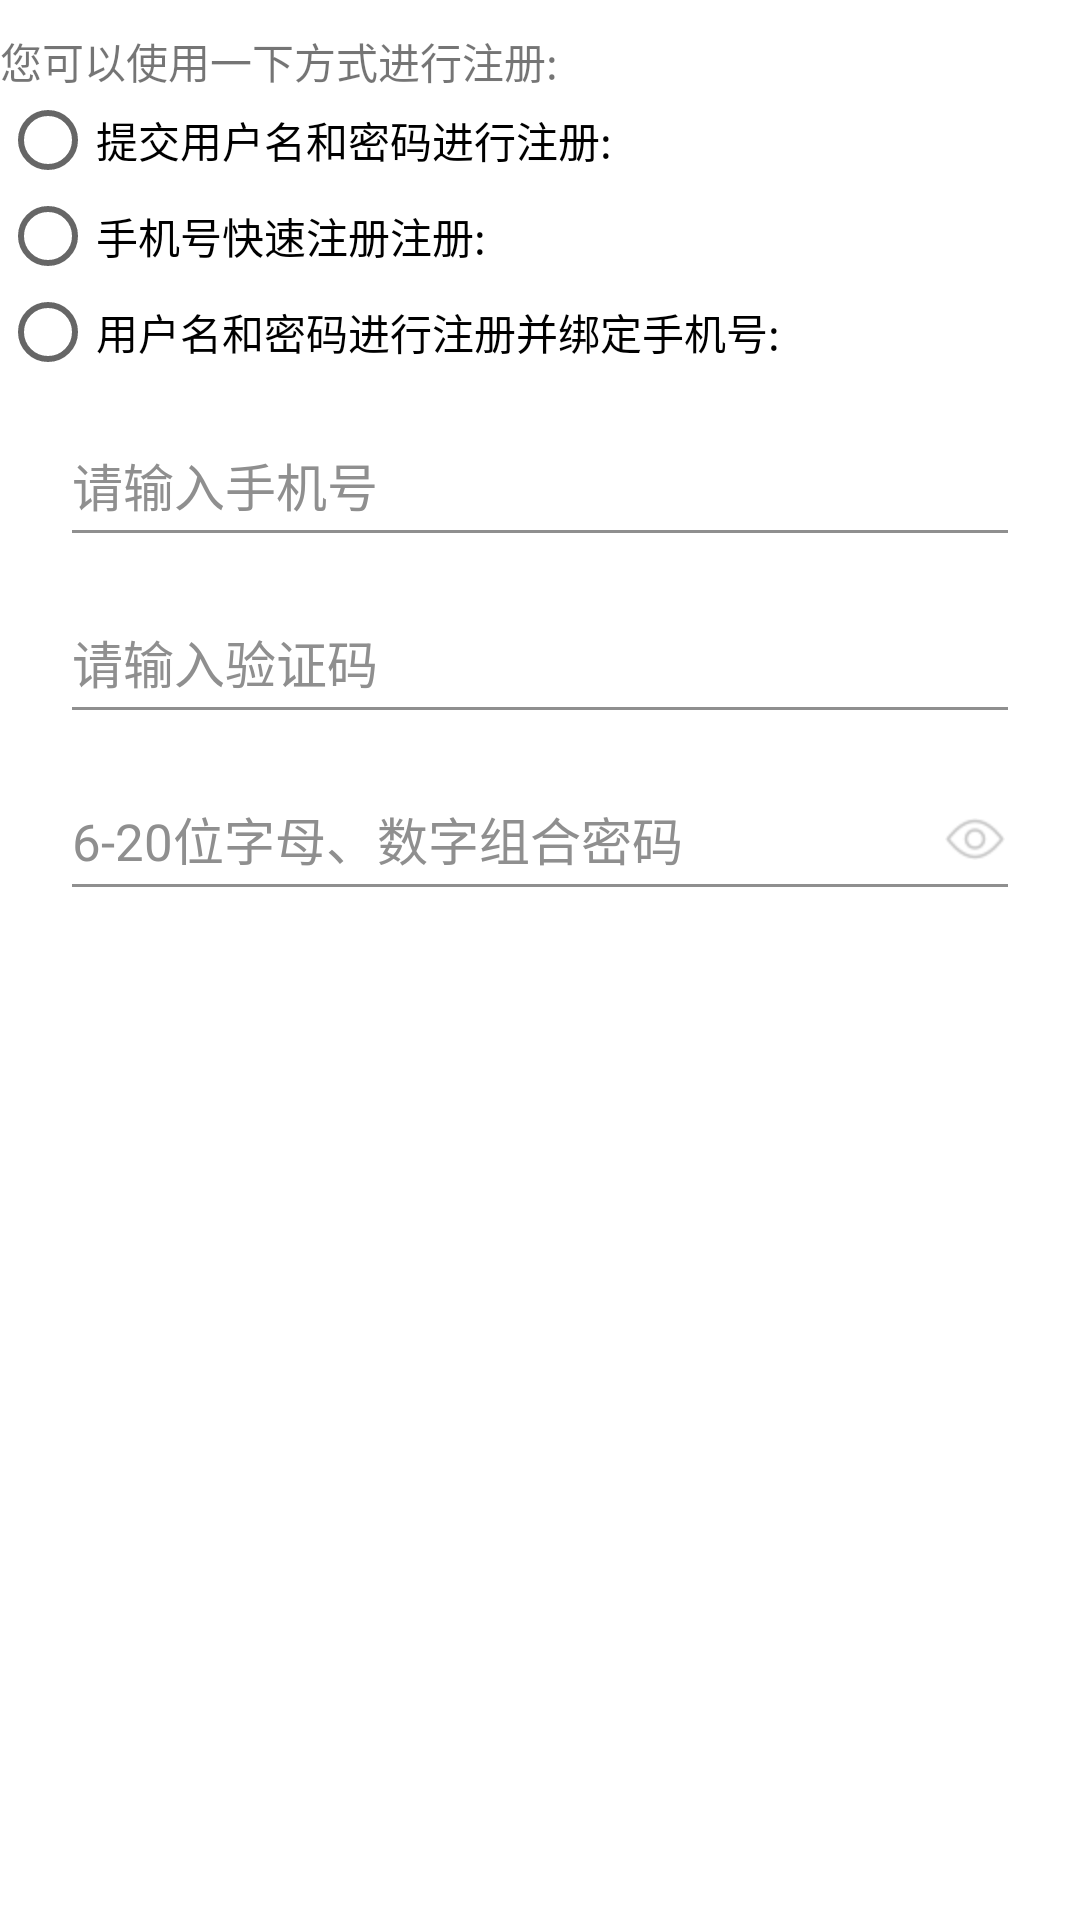

Screen size 1080w x 1920h. Icon name, then its box in pixels as (x1, y1, x2, y2):
login show: (947, 820, 1003, 858)
